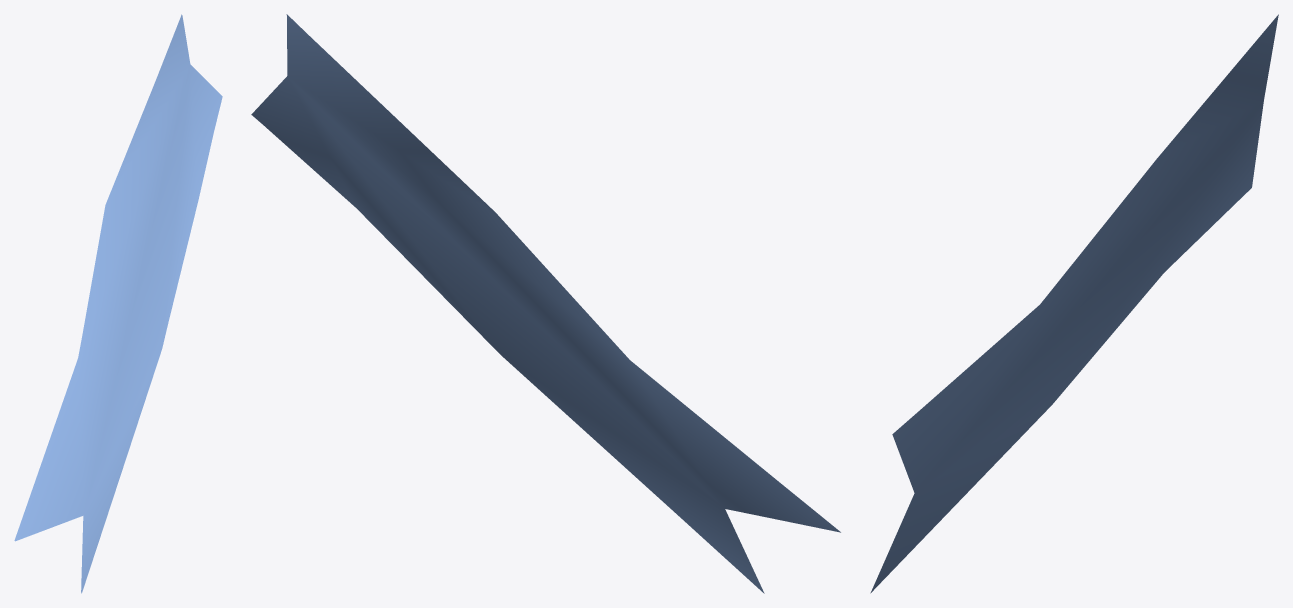
The model's file is Banner_A_LOD2.fbx.
3 views of the same model, side by side, from view 1: azimuth 30°, elevation 25°; view 2: azimuth 150°, elevation 25°; view 3: azimuth 270°, elevation 25° (orthographic). The views are drawn at different scales.
Parts seen in each view (by area): view 1: Banner_A_LOD2; view 2: Banner_A_LOD2; view 3: Banner_A_LOD2.
Boxes of the visible parts, <box> form: Banner_A_LOD2: <box>14,14,222,593</box>; Banner_A_LOD2: <box>251,14,840,593</box>; Banner_A_LOD2: <box>870,14,1278,593</box>.
Size of the model in its own units: 78.12 by 106 by 51.15.
